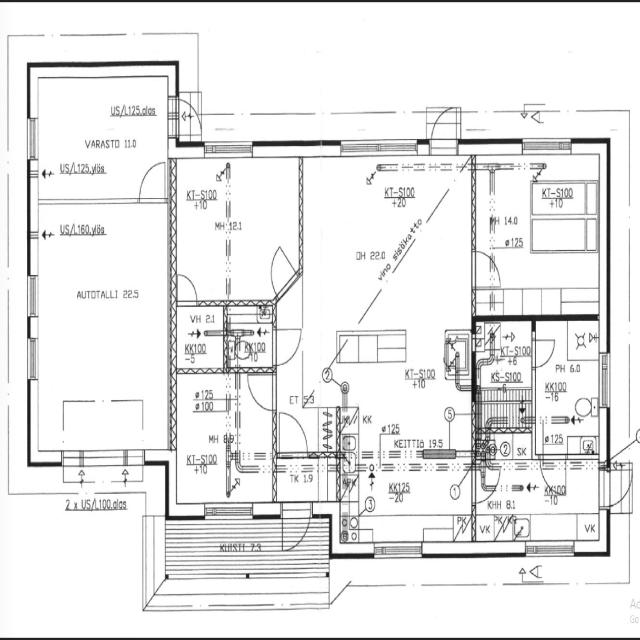door: (426, 101, 464, 162), (468, 244, 505, 293), (280, 499, 312, 554), (136, 156, 169, 206), (276, 408, 309, 457), (172, 93, 205, 140), (600, 465, 632, 509), (271, 324, 303, 367), (245, 370, 277, 412), (538, 450, 568, 494), (475, 464, 503, 504), (173, 268, 202, 305), (530, 332, 558, 370)
window: (335, 133, 421, 162), (23, 273, 40, 389), (597, 346, 616, 414), (201, 137, 258, 159), (21, 111, 41, 167), (518, 134, 574, 154), (209, 498, 255, 522), (372, 541, 426, 560), (523, 541, 580, 559), (22, 330, 40, 384), (24, 272, 38, 324), (200, 497, 230, 519), (468, 329, 478, 358)
zone: (316, 152, 478, 473), (472, 142, 607, 317), (26, 65, 176, 203), (170, 147, 300, 305), (334, 358, 473, 461), (346, 455, 475, 550), (533, 316, 605, 460), (172, 369, 235, 507), (474, 317, 534, 403), (474, 353, 536, 430), (234, 370, 275, 473), (222, 304, 276, 374), (274, 454, 338, 504), (473, 428, 536, 461)
